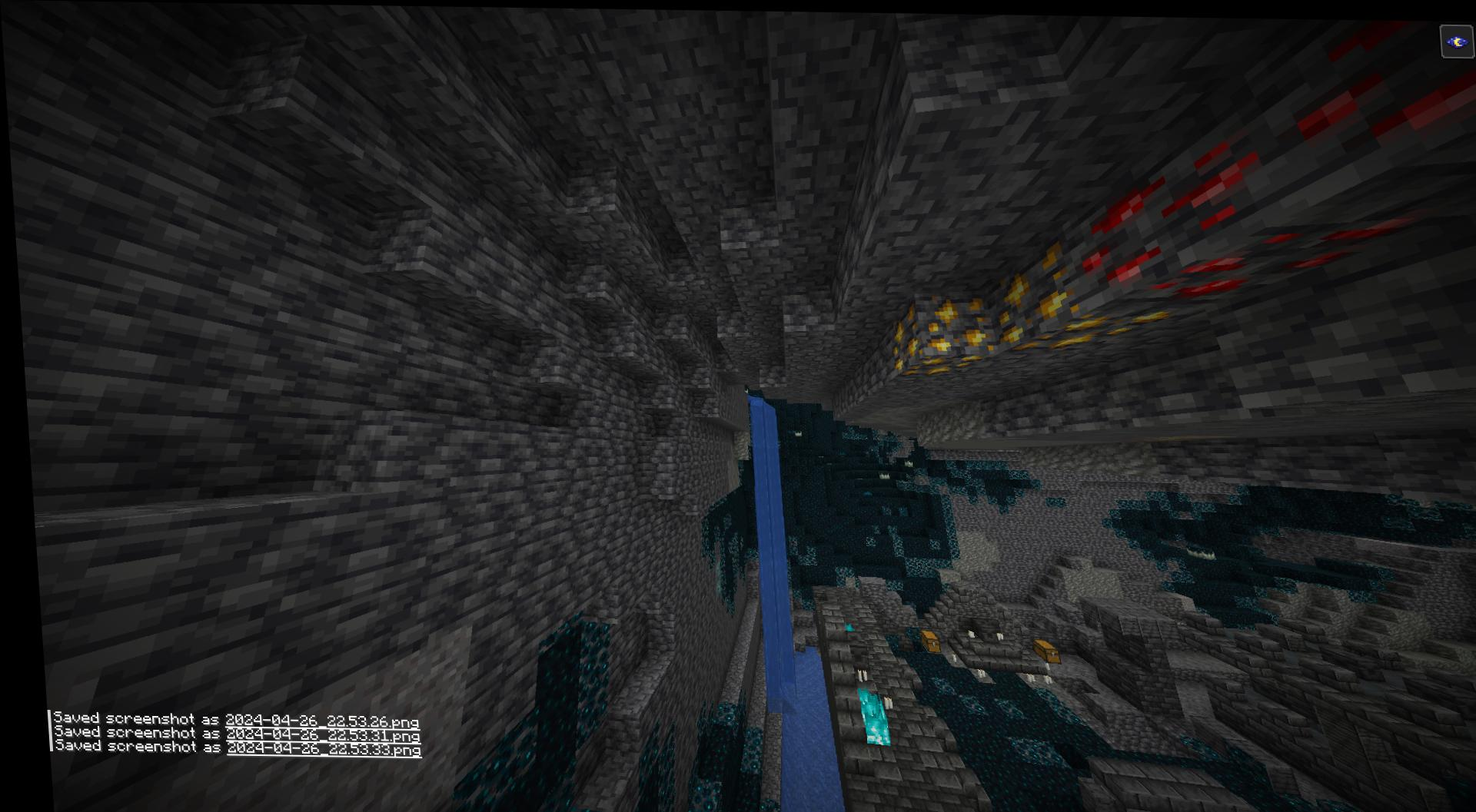gold ore: (995, 244, 1056, 337), (1016, 310, 1155, 347), (915, 288, 989, 350), (883, 303, 919, 368), (908, 346, 979, 372)
redstone ore: (1075, 23, 1476, 300)
